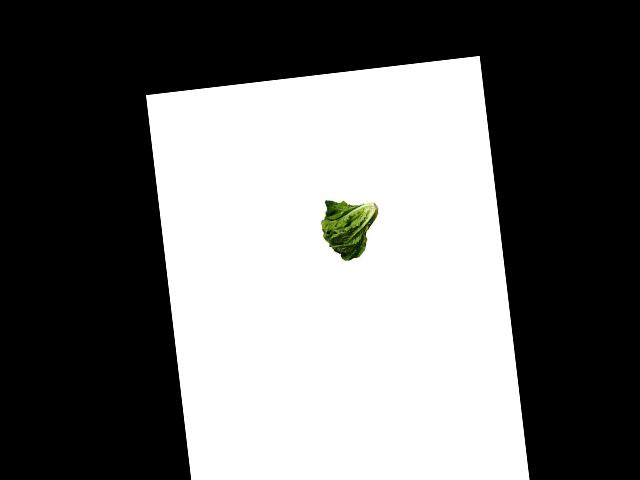lettuce: (316, 192, 387, 264)
